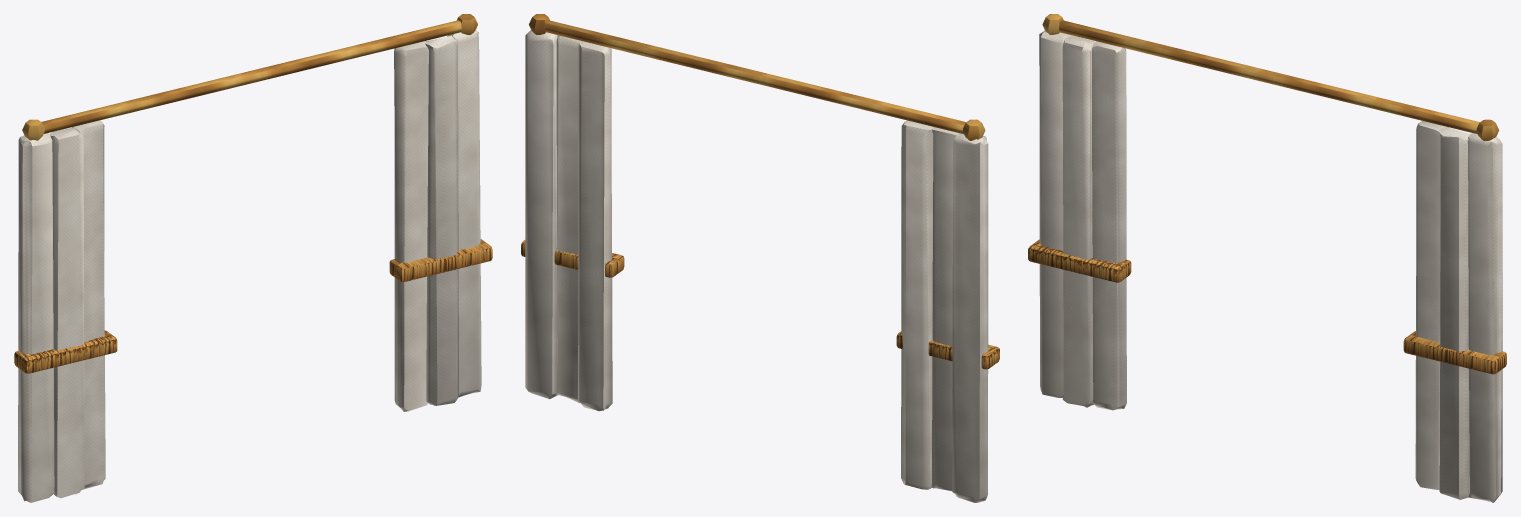
File: curtains.gltf
3 renders of one model, left to right at view 1: azimuth 30°, elevation 25°; view 2: azimuth 150°, elevation 25°; view 3: azimuth 330°, elevation 25°, orthographic.
Parts seen in each view (by area): view 1: curtains_mesh; view 2: curtains_mesh; view 3: curtains_mesh.
Boxes of the visible parts, bbox=[...] form: curtains_mesh: bbox=[14, 14, 492, 502]; curtains_mesh: bbox=[521, 14, 999, 502]; curtains_mesh: bbox=[1028, 14, 1506, 502].
Size of the model in its own units: 1.62 by 1.26 by 0.096.
Materials: 3 (3 with a texture image).
